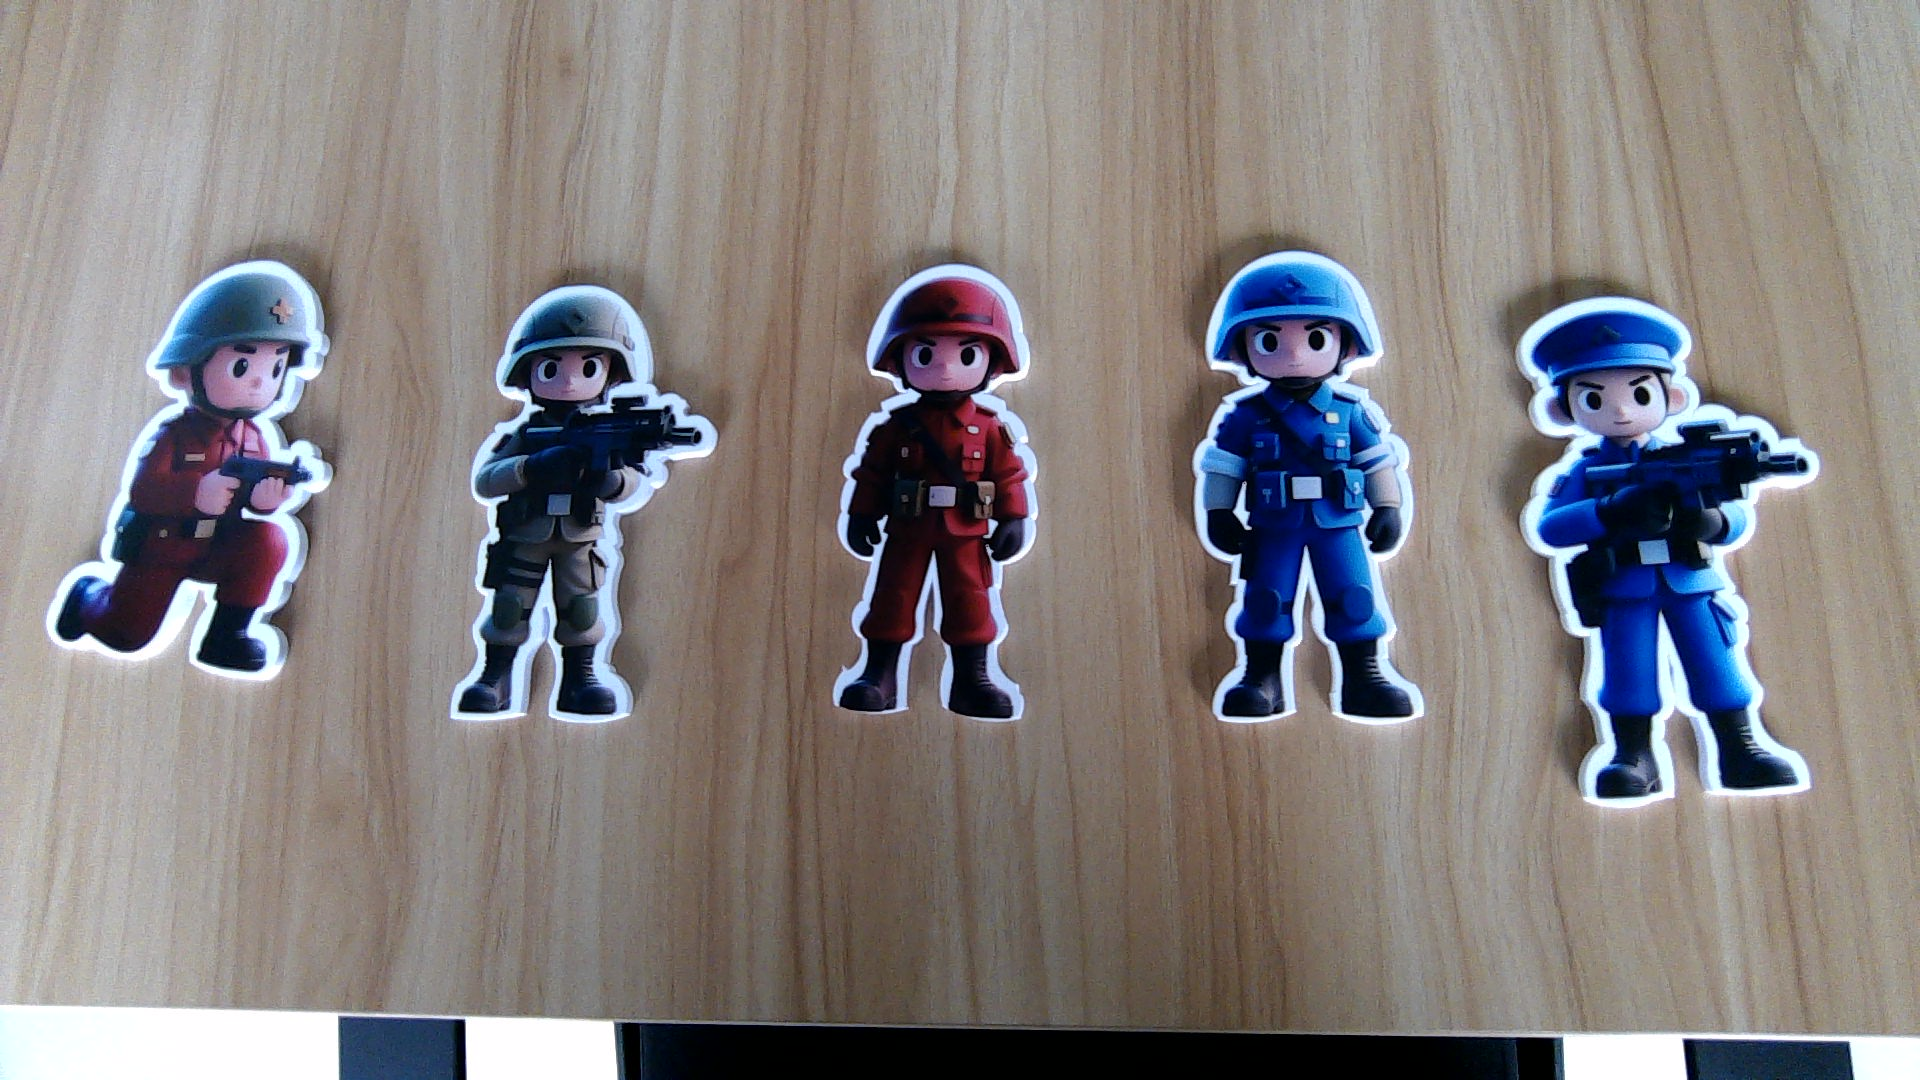友军: (446, 400, 716, 732)
敌人1: (41, 417, 335, 680), (829, 396, 1043, 723)
敌人2: (1514, 435, 1829, 814), (1175, 386, 1424, 727)
